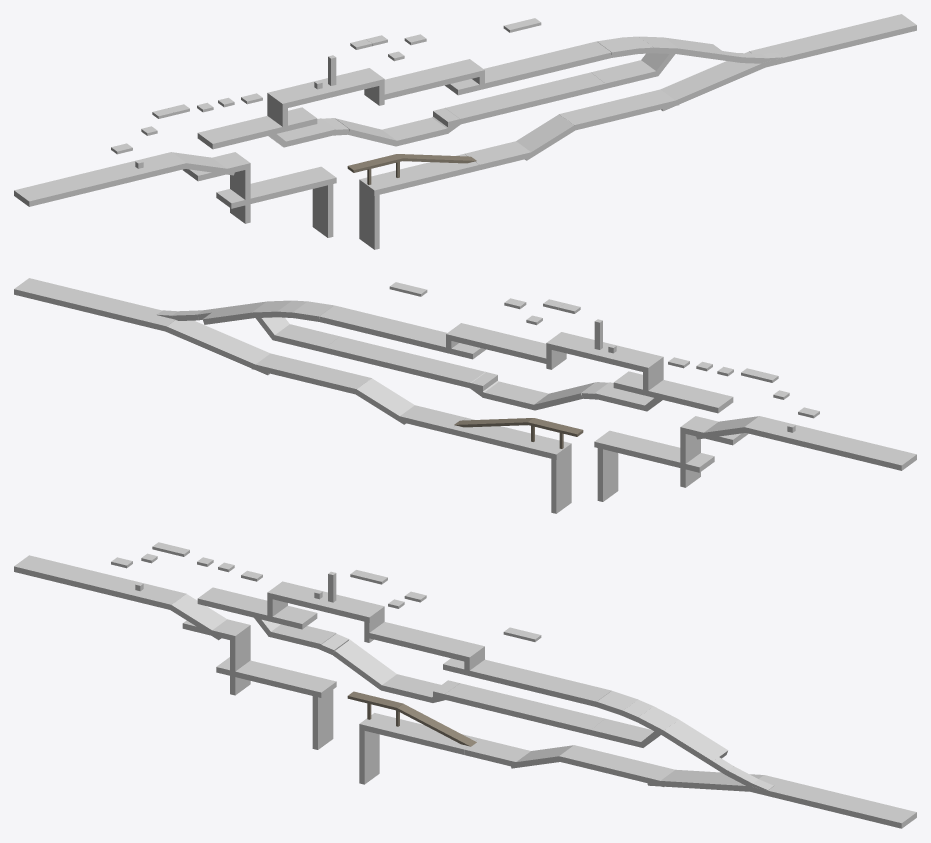
3 renders of one model, top to bottom at view 1: azimuth 30°, elevation 25°; view 2: azimuth 150°, elevation 25°; view 3: azimuth 330°, elevation 25°, orthographic.
Parts seen in each view (by area): view 1: _10_Cube__26_, _10_Cube__25_, _10_Cube__19_, _10_Cube__37_, _10_Cube__42_, _10_Cube__36_, _10_Cube__18_, _10_Cube__27_, _10_Cube__24_, _10_Cube__20_, _10_Cube__30_, _10_Cube__33_ (+28 smaller); view 2: _10_Cube__25_, _10_Cube__26_, _10_Cube__37_, _10_Cube__19_, _10_Cube__44_, _10_Cube__36_, _10_Cube__42_, _10_Cube__18_, _10_Cube__20_, _10_Cube__24_, _10_Cube__14_, _10_Cube__30_ (+28 smaller); view 3: _10_Cube__40_, _10_Cube__20_, _10_Cube__33_, _10_Cube__10_, _10_Cube, _10_Cube__46_, _10_Cube__41_, _10_Cube__24_, _10_Cube__30_, _10_Cube__28_, _10_Cube__25_, _10_Cube__31_ (+29 smaller).
Part boxes in pixels (box(x1,y1,x2,y2)): _10_Cube__26_: box(433, 98, 500, 127); _10_Cube__25_: box(14, 177, 81, 206); _10_Cube__19_: box(516, 114, 575, 160); _10_Cube__37_: box(197, 120, 264, 149); _10_Cube__42_: box(359, 185, 379, 249); _10_Cube__36_: box(267, 80, 334, 109); _10_Cube__18_: box(359, 166, 426, 195); _10_Cube__27_: box(486, 85, 553, 114); _10_Cube__24_: box(67, 165, 134, 193); _10_Cube__20_: box(269, 166, 336, 195); _10_Cube__30_: box(544, 41, 611, 70); _10_Cube__33_: box(417, 59, 484, 88); _10_Cube__25_: box(849, 441, 916, 470); _10_Cube__26_: box(430, 362, 497, 391); _10_Cube__37_: box(665, 384, 733, 413); _10_Cube__19_: box(356, 378, 414, 424); _10_Cube__44_: box(166, 320, 231, 353); _10_Cube__36_: box(595, 344, 663, 373); _10_Cube__42_: box(551, 449, 571, 513); _10_Cube__18_: box(504, 430, 571, 459); _10_Cube__20_: box(594, 430, 661, 459); _10_Cube__24_: box(796, 429, 863, 457); _10_Cube__14_: box(304, 365, 371, 394); _10_Cube__30_: box(319, 305, 386, 334); _10_Cube__40_: box(333, 640, 396, 689); _10_Cube__20_: box(268, 668, 336, 697); _10_Cube__33_: box(417, 633, 484, 662); _10_Cube__10_: box(849, 799, 916, 828); _10_Cube: box(662, 719, 727, 761); _10_Cube__46_: box(169, 594, 226, 640); _10_Cube__41_: box(312, 690, 333, 749); _10_Cube__24_: box(66, 568, 133, 597); _10_Cube__30_: box(544, 678, 611, 706); _10_Cube__28_: box(538, 706, 605, 735); _10_Cube__25_: box(14, 555, 81, 584); _10_Cube__31_: box(491, 665, 558, 694).
Bounding box in the file's own units: 16875 × 3679 × 501.
